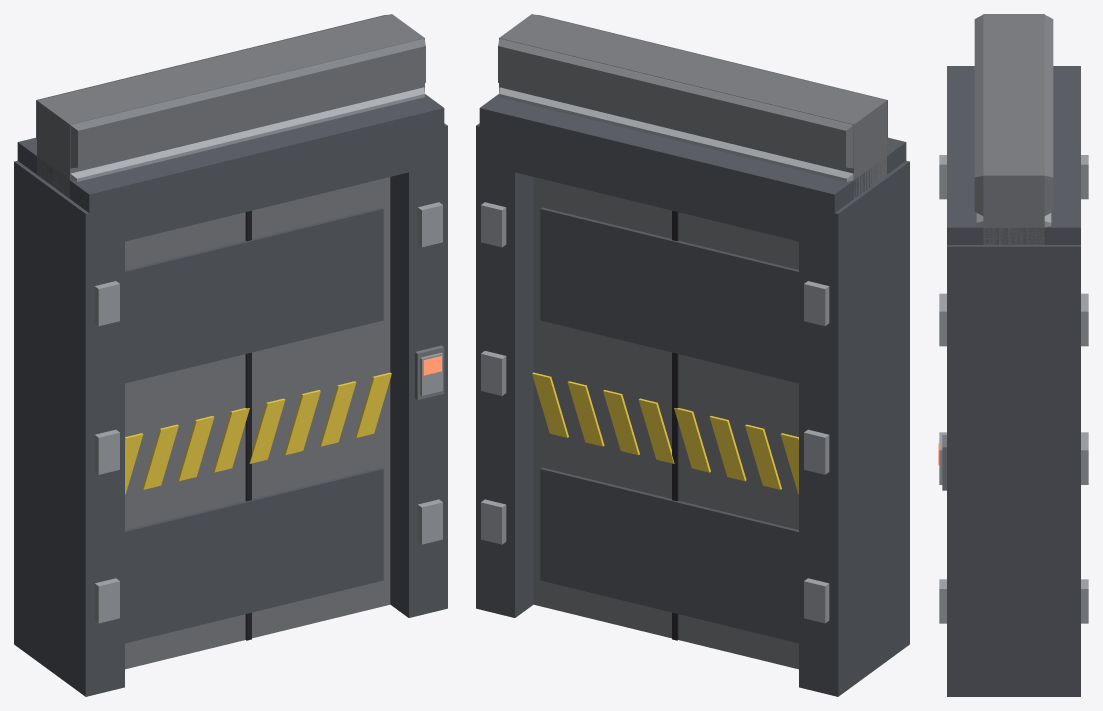
Rendered from SM_Wall_BlastDoor.glb.
3 views of the same model, side by side, from view 1: azimuth 30°, elevation 25°; view 2: azimuth 150°, elevation 25°; view 3: azimuth 270°, elevation 25° (orthographic). The views are drawn at different scales.
Parts seen in each view (by area): view 1: SM_Wall_BlastDoor; view 2: SM_Wall_BlastDoor; view 3: SM_Wall_BlastDoor.
Part boxes in pixels (x1,y1,x2,y2): SM_Wall_BlastDoor: (14, 14, 447, 696); SM_Wall_BlastDoor: (476, 14, 909, 696); SM_Wall_BlastDoor: (938, 14, 1088, 696).
Bounding box in the file's own units: 2.04 × 3 × 0.785.
